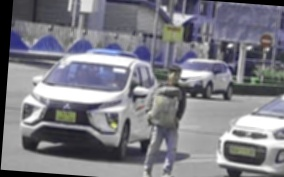Bien-so: (232, 145, 260, 157), (54, 114, 75, 127)
